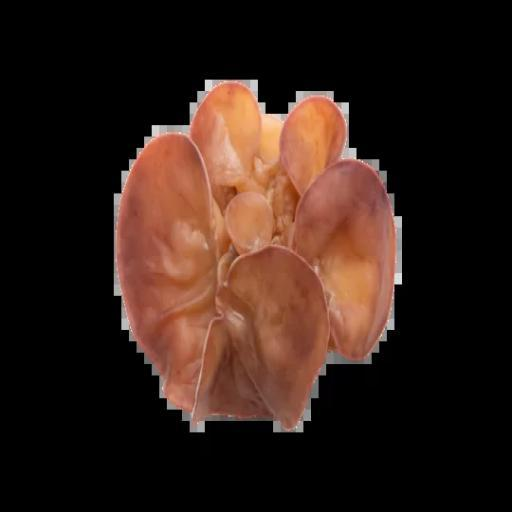mushroom: (112, 76, 407, 434)
